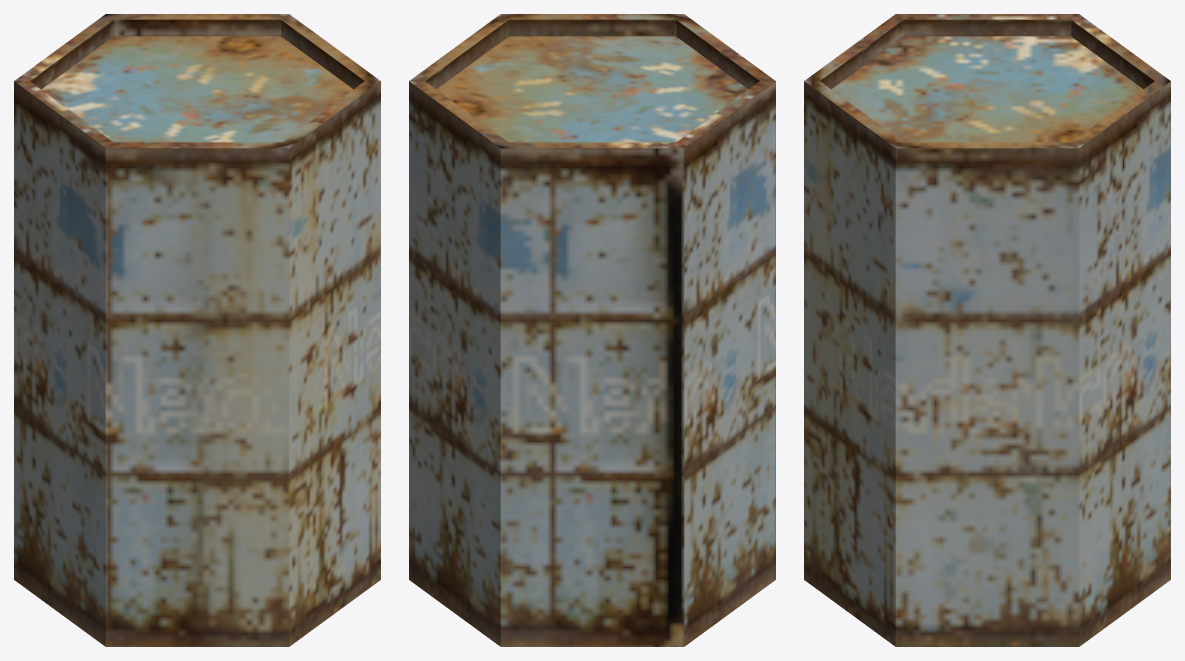
File: Barrel02.obj
3 renders of one model, left to right at view 1: azimuth 30°, elevation 25°; view 2: azimuth 150°, elevation 25°; view 3: azimuth 270°, elevation 25°, orthographic.
Visible parts, largest first — view 1: Barrel02; view 2: Barrel02; view 3: Barrel02.
Part boxes in pixels (bbox=[...]): Barrel02: bbox=[14, 14, 380, 646]; Barrel02: bbox=[409, 14, 775, 646]; Barrel02: bbox=[804, 14, 1170, 646].
Size of the model in its own units: 0.6928 by 1.2 by 0.8.
